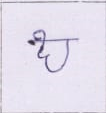anusvara: (33, 31, 45, 38)
